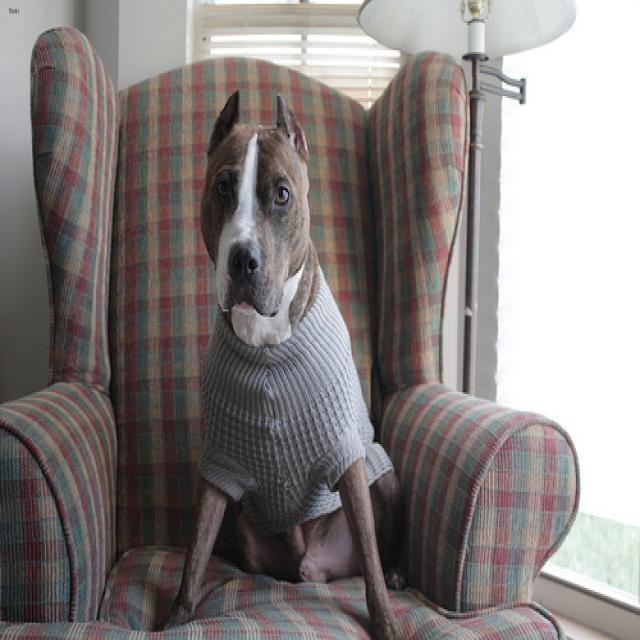dog-american_pit_bull_terrier: (196, 79, 323, 357)
